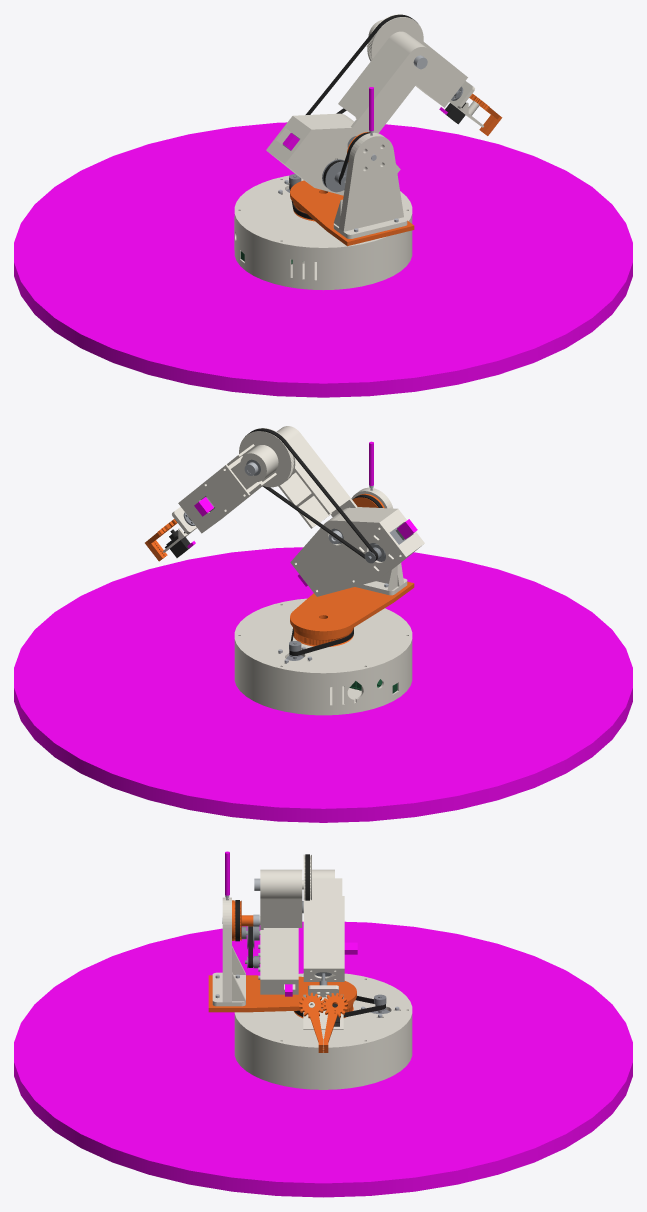
Rendered from assembly.glb.
The picture shows the model from 3 angles, top to bottom: view 1: azimuth 30°, elevation 25°; view 2: azimuth 150°, elevation 25°; view 3: azimuth 270°, elevation 25°; orthographic projection.
Visible parts, largest first — view 1: table-keepout, upper-arm, base-shell, shoulder-tower, base-deck, forearm, turret-hub, belt-j3, gripper-base; view 2: table-keepout, base-deck, base-shell, pack-cover, upper-arm, turret-hub, forearm, forearm-cover, belt-j3, shoulder-tower; view 3: table-keepout, base-shell, base-deck, upper-arm, forearm, turret-hub, shoulder-tower, gripper-base, gripper-finger-left, gripper-finger-right.
Boxes of the visible parts, bbox=[...] form: table-keepout: bbox=[14, 122, 632, 397]; upper-arm: bbox=[267, 31, 432, 195]; base-shell: bbox=[234, 217, 412, 290]; shoulder-tower: bbox=[333, 132, 407, 238]; base-deck: bbox=[234, 175, 412, 251]; forearm: bbox=[366, 14, 467, 107]; turret-hub: bbox=[290, 180, 414, 246]; belt-j3: bbox=[305, 14, 417, 114]; gripper-base: bbox=[449, 81, 483, 127]; table-keepout: bbox=[14, 547, 632, 822]; base-deck: bbox=[234, 598, 412, 676]; base-shell: bbox=[234, 643, 412, 715]; pack-cover: bbox=[290, 519, 407, 596]; upper-arm: bbox=[277, 426, 424, 590]; turret-hub: bbox=[290, 581, 414, 646]; forearm: bbox=[205, 428, 295, 530]; forearm-cover: bbox=[178, 464, 250, 533]; belt-j3: bbox=[245, 428, 377, 560]; shoulder-tower: bbox=[351, 487, 407, 595]; table-keepout: bbox=[14, 921, 632, 1197]; base-shell: bbox=[234, 1017, 412, 1089]; base-deck: bbox=[234, 973, 412, 1050]; upper-arm: bbox=[260, 869, 303, 994]; forearm: bbox=[303, 854, 342, 981]; turret-hub: bbox=[208, 975, 356, 1019]; shoulder-tower: bbox=[212, 897, 245, 1006]; gripper-base: bbox=[303, 985, 343, 1029]; gripper-finger-left: bbox=[322, 993, 347, 1052]; gripper-finger-right: bbox=[299, 992, 324, 1052].
Bounding box in the file's own units: 0.8 × 0.3418 × 0.7978.
